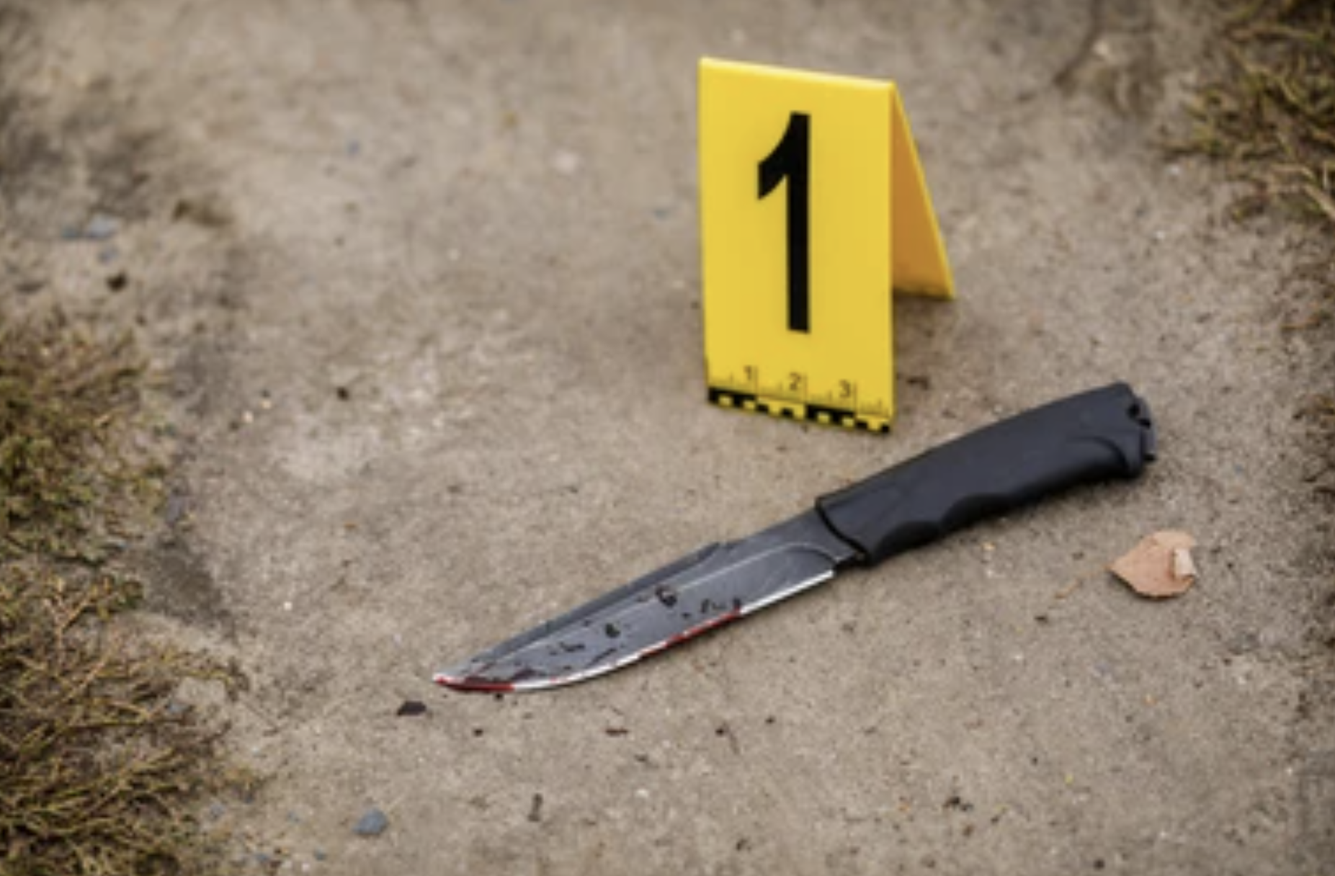knife_42.png: (400, 375, 1212, 709)
